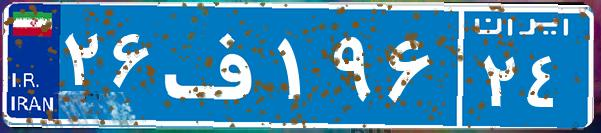1: (273, 28, 330, 110)
2: (57, 26, 110, 107), (475, 38, 525, 113)
4: (525, 38, 570, 115)
6: (385, 28, 445, 110), (110, 28, 158, 105)
9: (330, 28, 385, 110)
ف: (158, 15, 273, 115)
